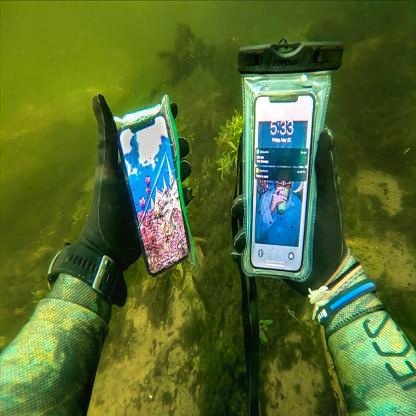cellphone: (116, 114, 191, 278), (251, 88, 317, 274)
